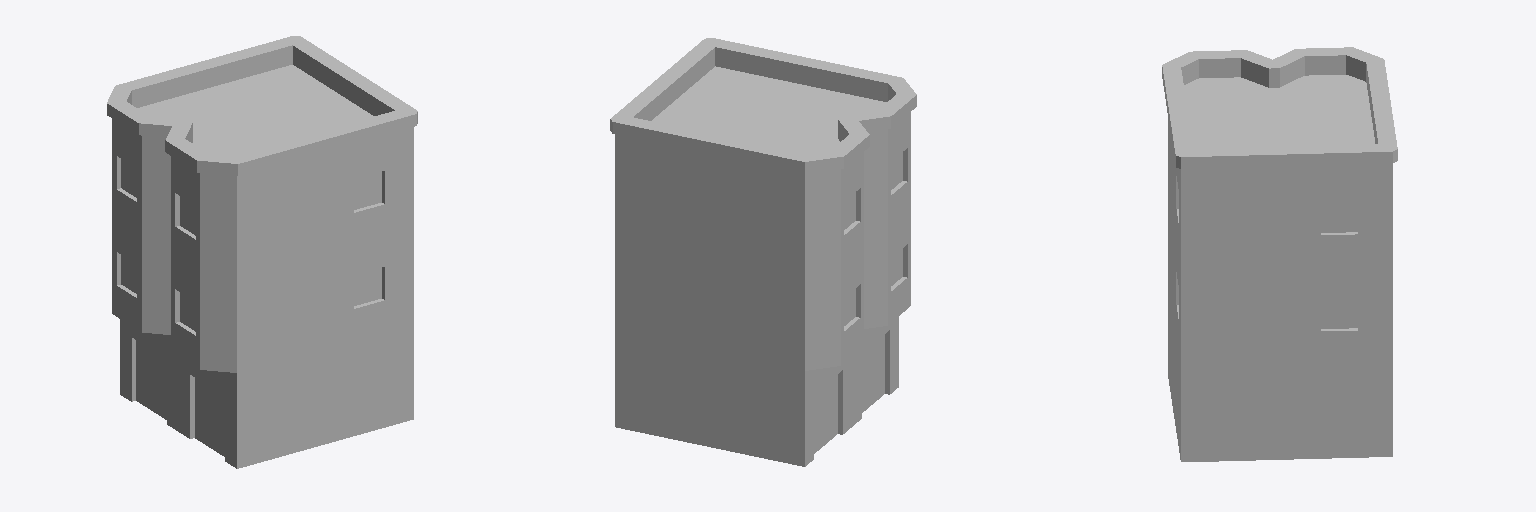
File: variant_13.obj
3 renders of one model, left to right at view 1: azimuth 30°, elevation 25°; view 2: azimuth 150°, elevation 25°; view 3: azimuth 270°, elevation 25°, orthographic.
Parts seen in each view (by area): view 1: Building; view 2: Building; view 3: Building.
Boxes of the visible parts, x1=… form: Building: x1=107, y1=36, x2=417, y2=468; Building: x1=610, y1=38, x2=916, y2=466; Building: x1=1162, y1=47, x2=1397, y2=461.
Size of the model in its own units: 0.9826 by 1.28 by 0.8891.